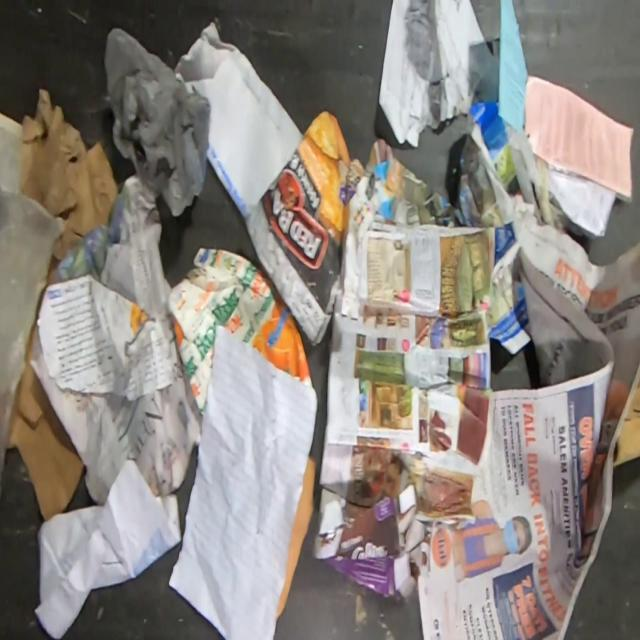cardboard: (166, 248, 317, 421), (18, 87, 120, 275), (8, 362, 85, 524), (275, 456, 315, 626), (613, 382, 640, 469)
soft_plastic: (104, 29, 209, 216), (0, 190, 59, 487)
